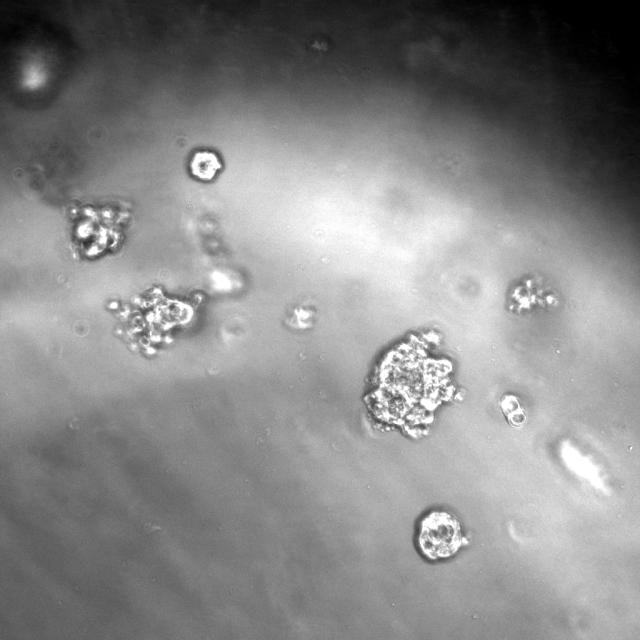organoid: (362, 328, 466, 439), (108, 285, 205, 356), (66, 200, 131, 259), (414, 509, 468, 561), (506, 275, 559, 315), (186, 148, 223, 182), (501, 393, 527, 428)
